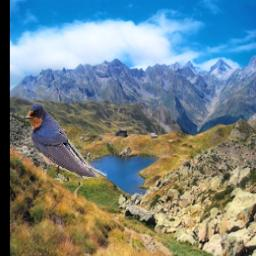Swallow: (25, 102, 106, 180)
